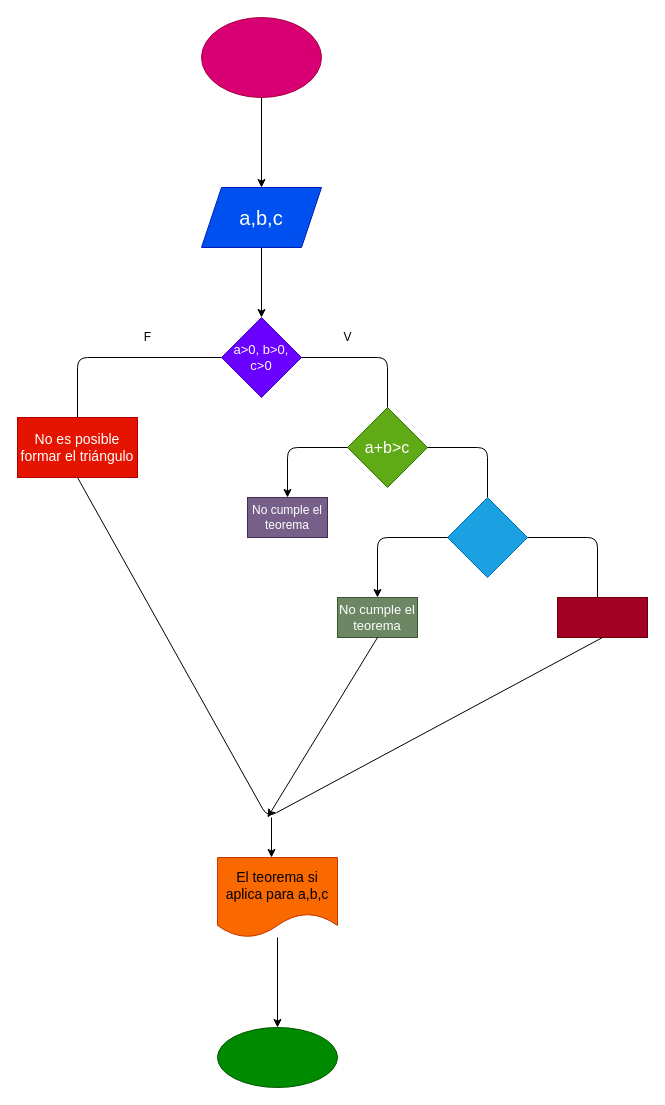
Some shapes in this 665 by 1105 pixel diagram are drawn without their labels. Here are the shapes that lost their labels. From the top down, the centre of each, then its label:
At point 261,57: "INICIO".
At point 487,537: "a+c>b".
At point 602,617: "b+c>a".
At point 277,1057: "FIN".
